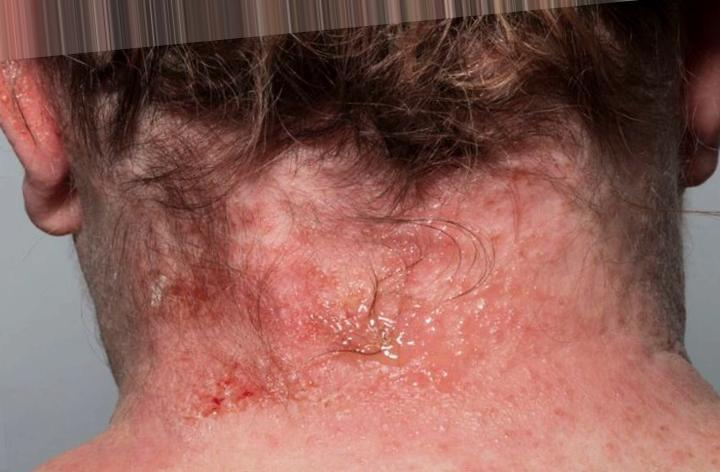Contact Dermatitis: (146, 109, 670, 393)
